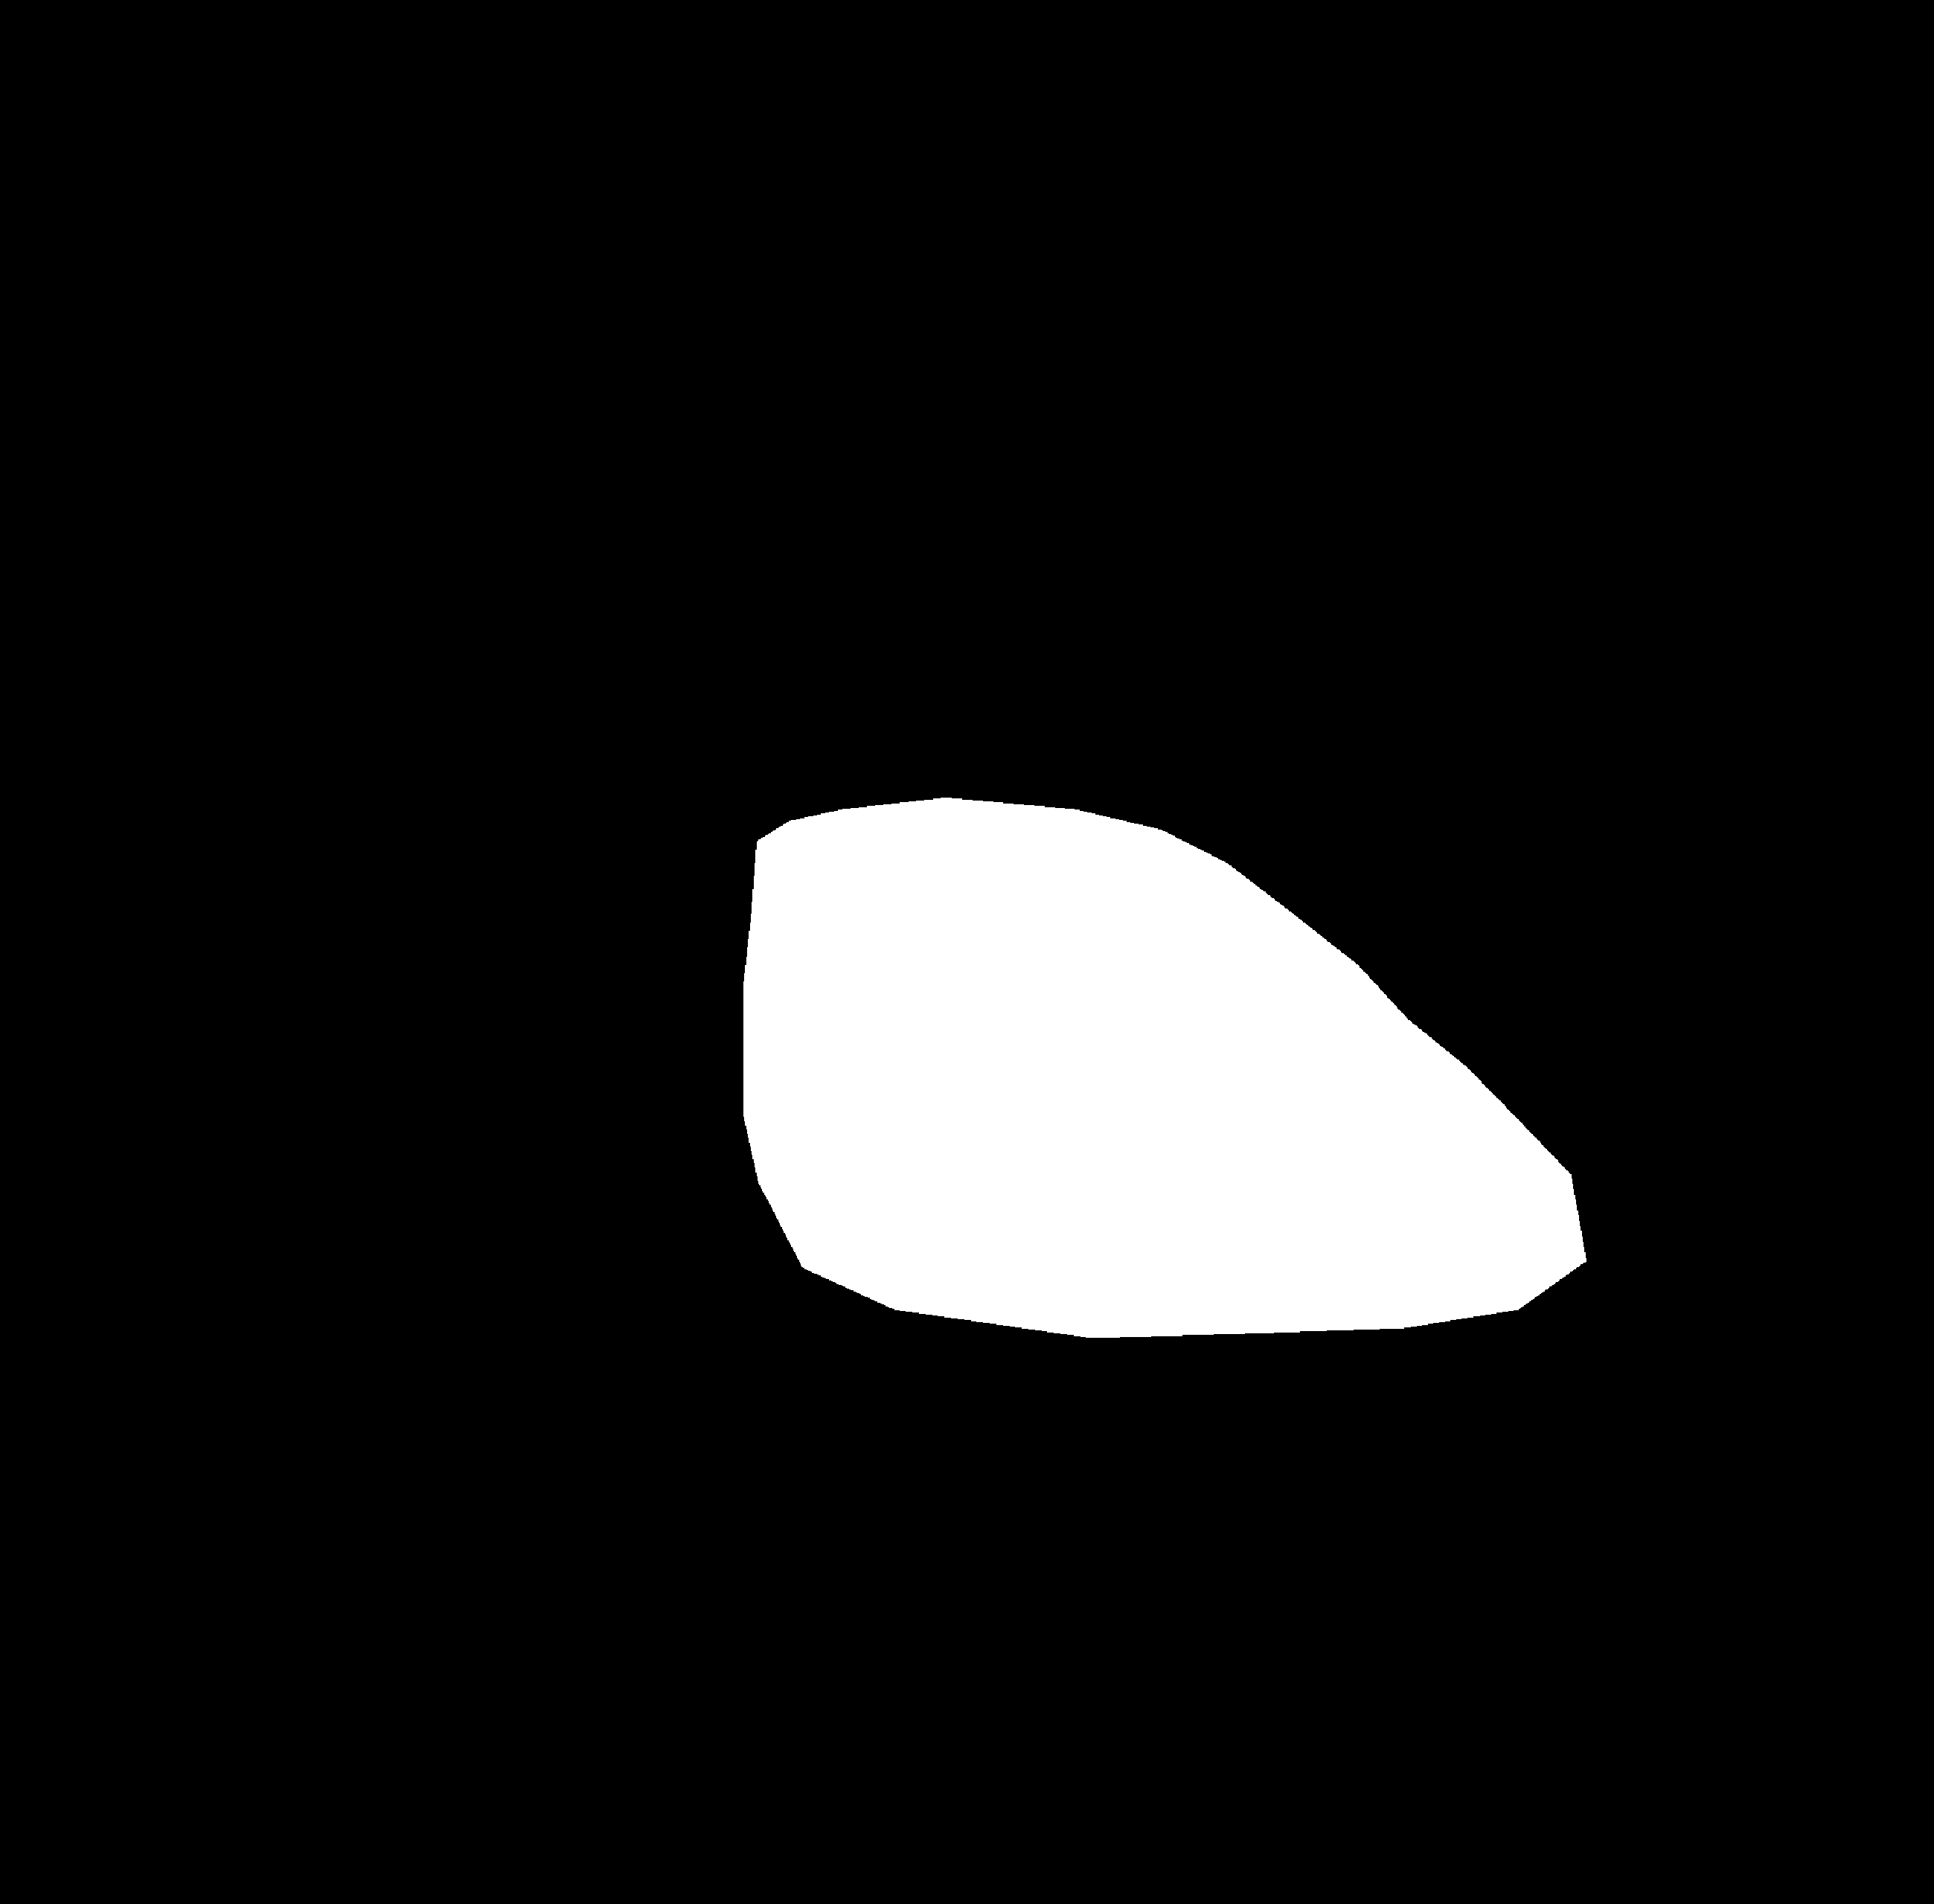heart: (745, 865, 1589, 1336)
left_lung: (176, 211, 821, 1344)
right_lung: (1088, 253, 1683, 1407)
